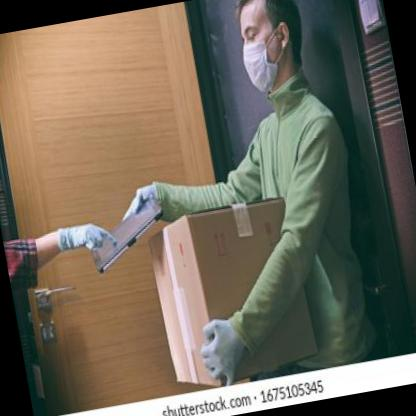Gloves: (196, 314, 252, 390), (53, 216, 118, 258), (114, 180, 161, 224)
